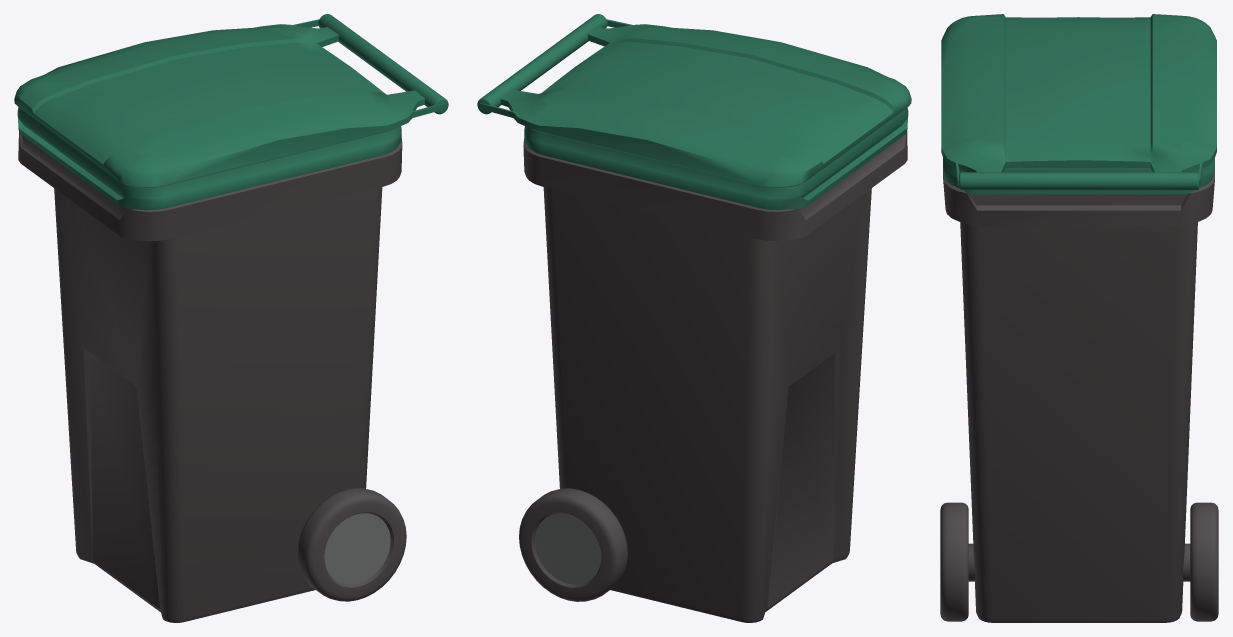
File: TrashCan.fbx
3 views of the same model, side by side, from view 1: azimuth 30°, elevation 25°; view 2: azimuth 150°, elevation 25°; view 3: azimuth 270°, elevation 25° (orthographic). The views are drawn at different scales.
Parts seen in each view (by area): view 1: Poubelle, Couvercle, Roues; view 2: Poubelle, Couvercle, Roues; view 3: Poubelle, Couvercle, Roues.
Boxes of the visible parts, <box> form: Poubelle: <box>18,132,402,622</box>; Couvercle: <box>14,14,448,210</box>; Roues: <box>297,488,406,601</box>; Poubelle: <box>523,131,907,622</box>; Couvercle: <box>477,14,911,210</box>; Roues: <box>519,488,627,601</box>; Poubelle: <box>943,167,1214,622</box>; Couvercle: <box>941,14,1216,194</box>; Roues: <box>940,502,1218,621</box>.
Bounding box in the file's own units: 186 × 270 × 134.
